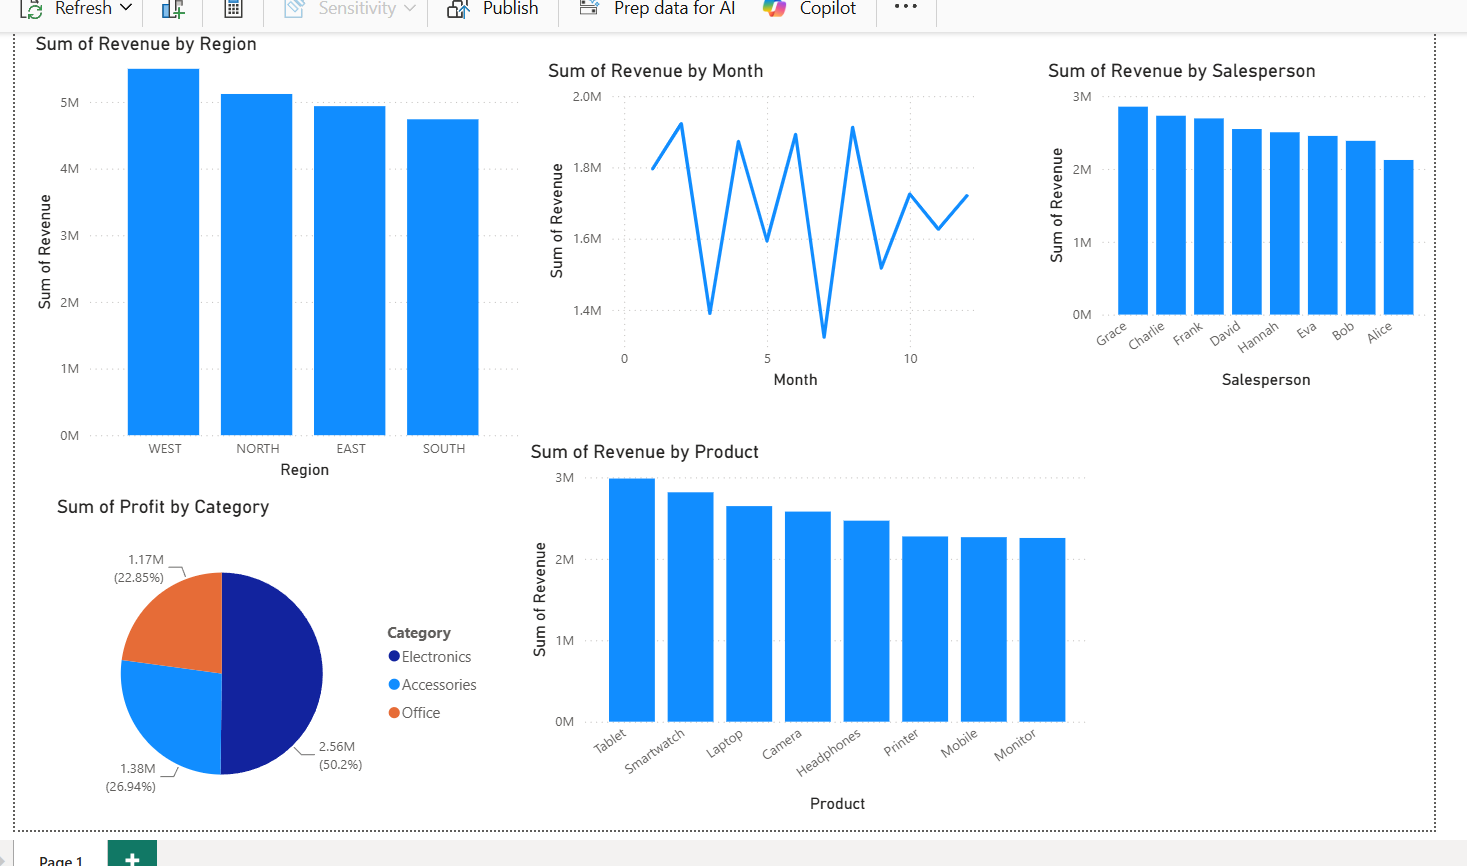

What the dashboard file says about the page in this screenshot:
{"tool":"powerbi","page":{"name":"Page 1","canvas":[1280,720],"ordinal":0},"visuals":[{"type":"columnChart","fields":{"Category":["Sales_Cleaned.Region"],"Y":["Sum(Sales_Cleaned.Revenue)"]},"box":[13.7,0,446,407.5],"z":0},{"type":"pieChart","fields":{"Category":["Sales_Cleaned.Category"],"Y":["Sum(Sales_Cleaned.Profit)"]},"box":[32.9,418.5,397.9,301.9],"z":1},{"type":"lineChart","fields":{"Category":["Sales_Cleaned.Month"],"Y":["Sum(Sales_Cleaned.Revenue)"]},"box":[476.2,24.7,397.9,301.9],"z":2},{"type":"columnChart","fields":{"Category":["Sales_Cleaned.Product"],"Y":["Sum(Sales_Cleaned.Revenue)"]},"box":[459.7,369.1,514.6,340.3],"z":3},{"type":"columnChart","fields":{"Category":["Sales_Cleaned.Salesperson"],"Y":["Sum(Sales_Cleaned.Revenue)"]},"box":[926,25,354,302],"z":4}]}

Visuals, with their boxes on the page's 1280x720 design canvas (x1, y1, x2, y2). These are canvas units, not pixel positions in the 1467x866 screenshot, which may show the page scaled, cropped or inside an application window:
columnChart - Sales_Cleaned.Region x Sum(Sales_Cleaned.Revenue): detection(14, 0, 460, 408)
pieChart - Sales_Cleaned.Category x Sum(Sales_Cleaned.Profit): detection(33, 418, 431, 720)
lineChart - Sales_Cleaned.Month x Sum(Sales_Cleaned.Revenue): detection(476, 25, 874, 327)
columnChart - Sales_Cleaned.Product x Sum(Sales_Cleaned.Revenue): detection(460, 369, 974, 709)
columnChart - Sales_Cleaned.Salesperson x Sum(Sales_Cleaned.Revenue): detection(926, 25, 1280, 327)
